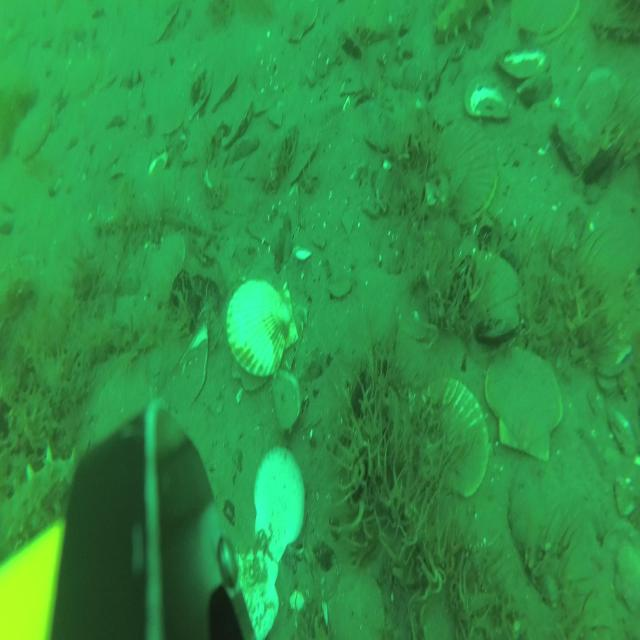holothurian: (1, 441, 78, 553), (436, 1, 495, 40)
scallop: (482, 346, 565, 466), (414, 377, 490, 498), (225, 275, 298, 385), (250, 449, 312, 561), (432, 120, 498, 225), (450, 248, 522, 343), (317, 563, 386, 640), (232, 545, 280, 640), (144, 232, 190, 306), (509, 3, 580, 48), (613, 539, 640, 623), (12, 110, 50, 166)
